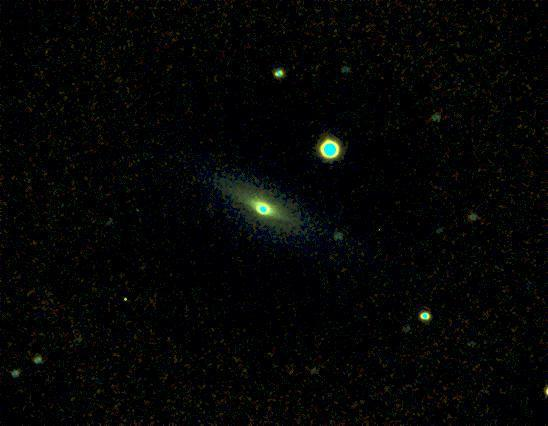star: (108, 290, 138, 320)
